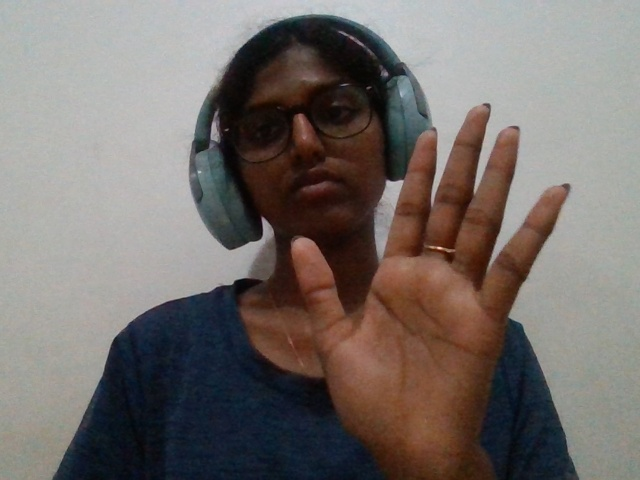Bye: (262, 95, 571, 480)
